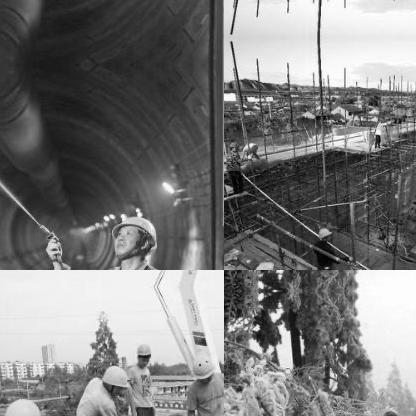Helmet: (104, 207, 158, 266), (0, 393, 45, 415), (101, 363, 127, 395), (190, 352, 216, 382), (134, 336, 152, 366), (317, 225, 331, 241), (377, 408, 399, 415), (228, 137, 238, 151)
